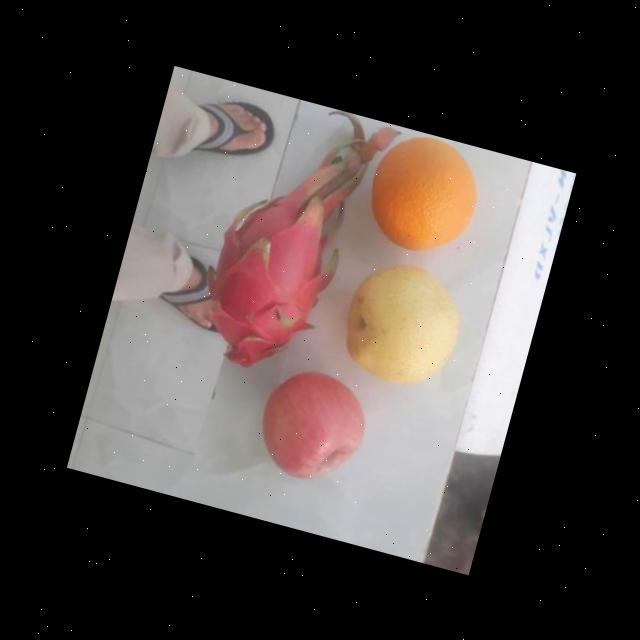apple: (247, 362, 375, 496)
orange: (355, 122, 489, 264)
pear: (333, 252, 472, 402)
pitaya: (188, 180, 346, 378)
